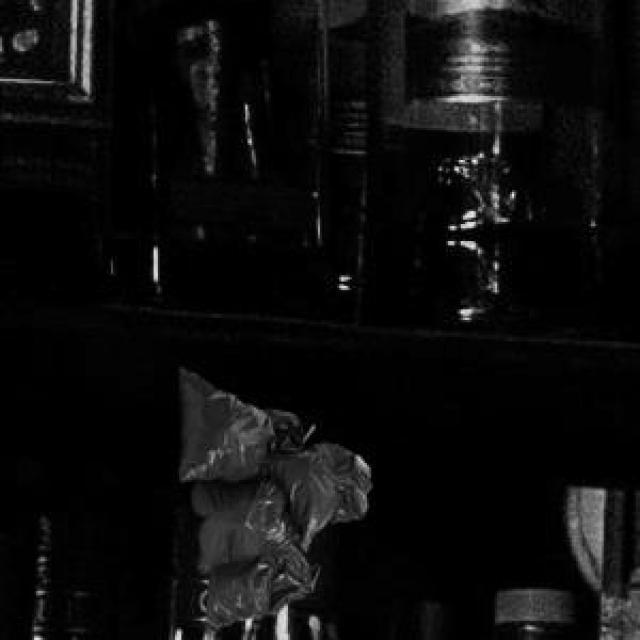miscellaneous trash: (175, 363, 367, 632)
